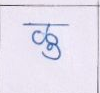u_matra: (42, 44, 64, 61)
